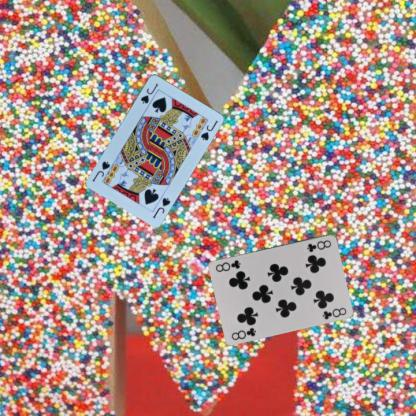8c: (228, 325, 258, 341), (305, 237, 332, 253)
Js: (138, 80, 160, 105), (150, 194, 172, 219)
